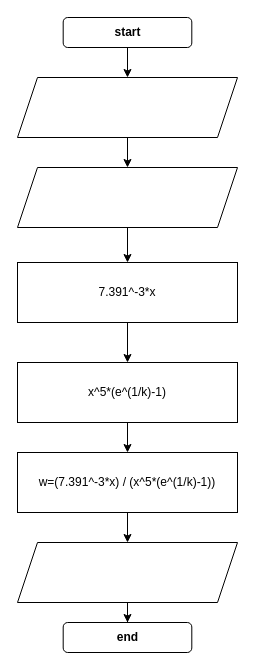
This 255x670 diagram has some shape labels left out. Here are the shapes that lost their labels. From the top down, the centre of each, then its label:
At (x=127, y=107): "Ініціалізація данних (k, e)".
At (x=127, y=197): "Введення користувачем значення х".
At (x=127, y=572): "Виведення w".
